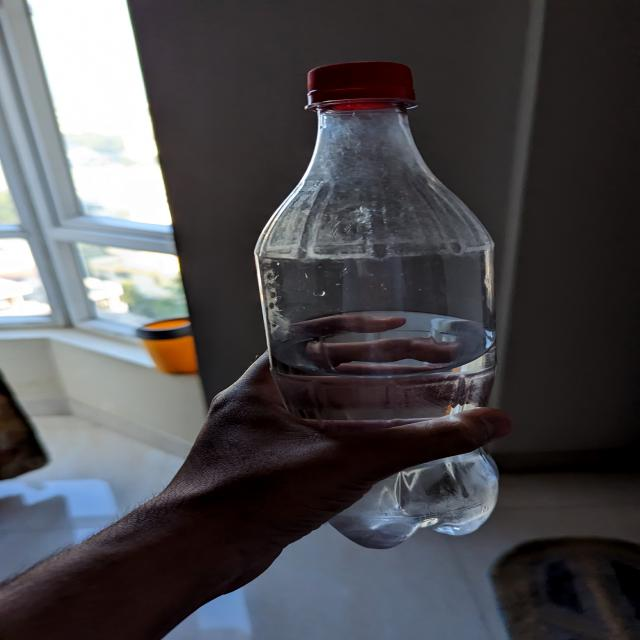half-bottle: (249, 53, 506, 558)
